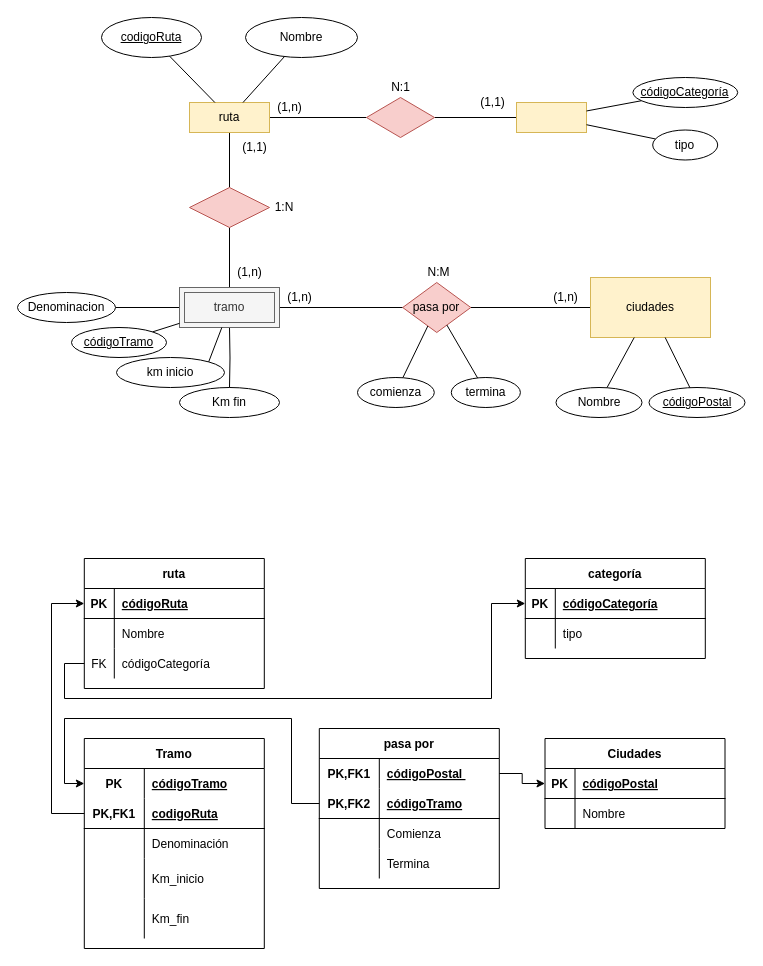
Image size: 763x966. Some labels were removed from this diagram. Each missing label, with the centre of its shape:
"categoria" goes at point 551,117.
"contiene" goes at point 229,207.
"posee" goes at point 400,117.
